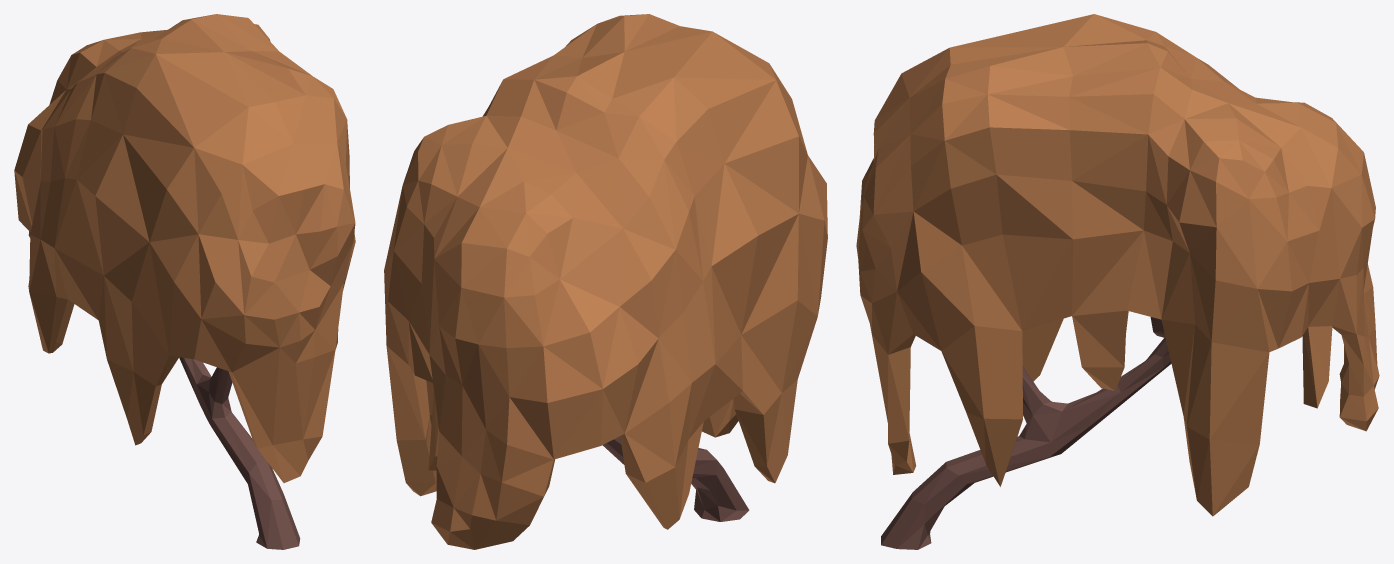
Rendered from Willow_Autumn_2.lod1.glb.
3 renders of one model, left to right at view 1: azimuth 30°, elevation 25°; view 2: azimuth 150°, elevation 25°; view 3: azimuth 270°, elevation 25°, orthographic. The views are drawn at different scales.
Parts seen in each view (by area): view 1: Willow_Autumn_2; view 2: Willow_Autumn_2; view 3: Willow_Autumn_2.
Part boxes in pixels (<box>): Willow_Autumn_2: <box>14,14,355,549</box>; Willow_Autumn_2: <box>384,14,827,549</box>; Willow_Autumn_2: <box>856,14,1379,549</box>.
Size of the model in its own units: 1.95 by 3.32 by 3.11.
